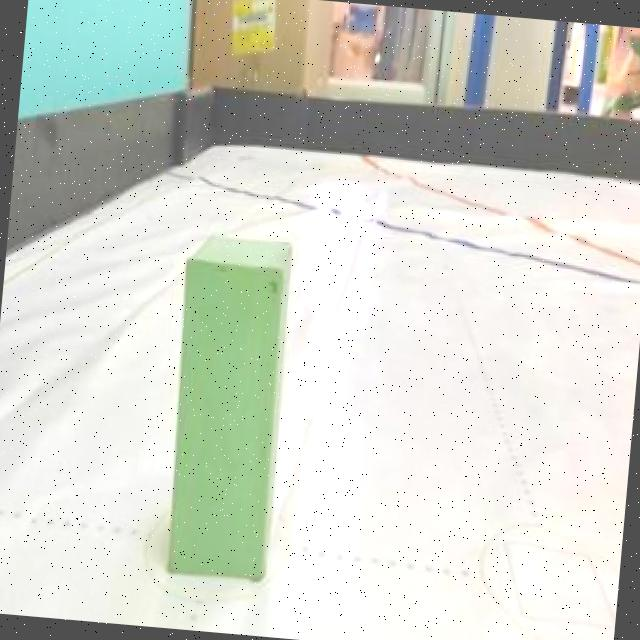greenbox: (162, 227, 293, 578)
